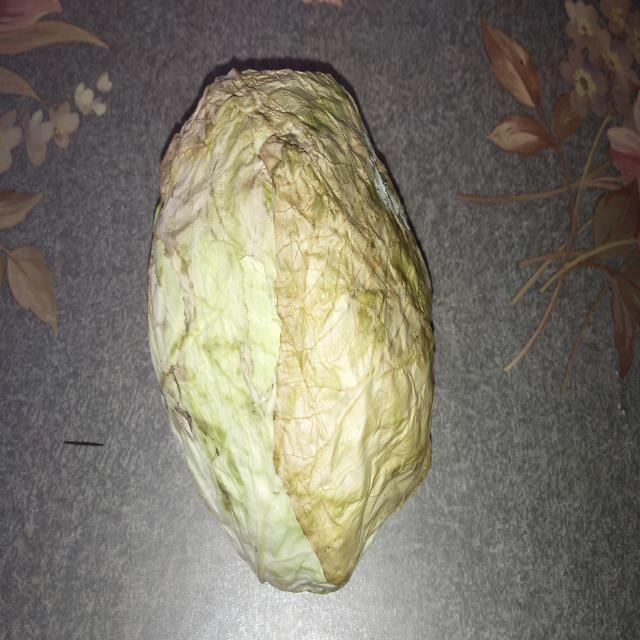cabbage: (144, 49, 439, 602)
